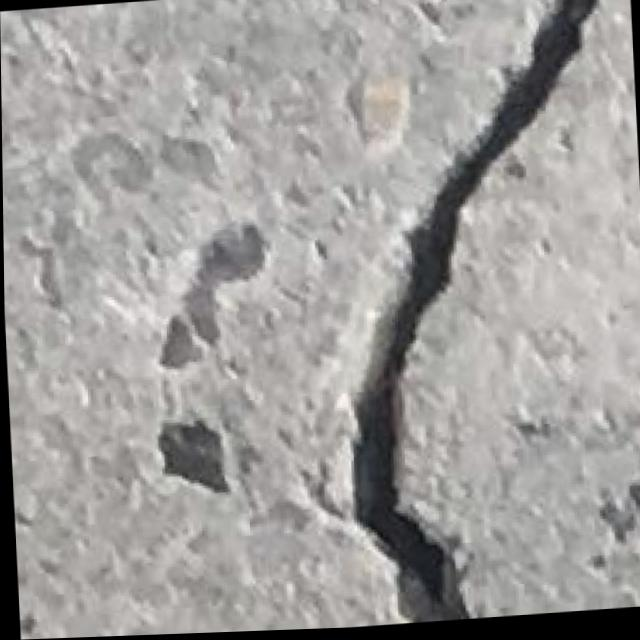Crack: (310, 0, 638, 630)
